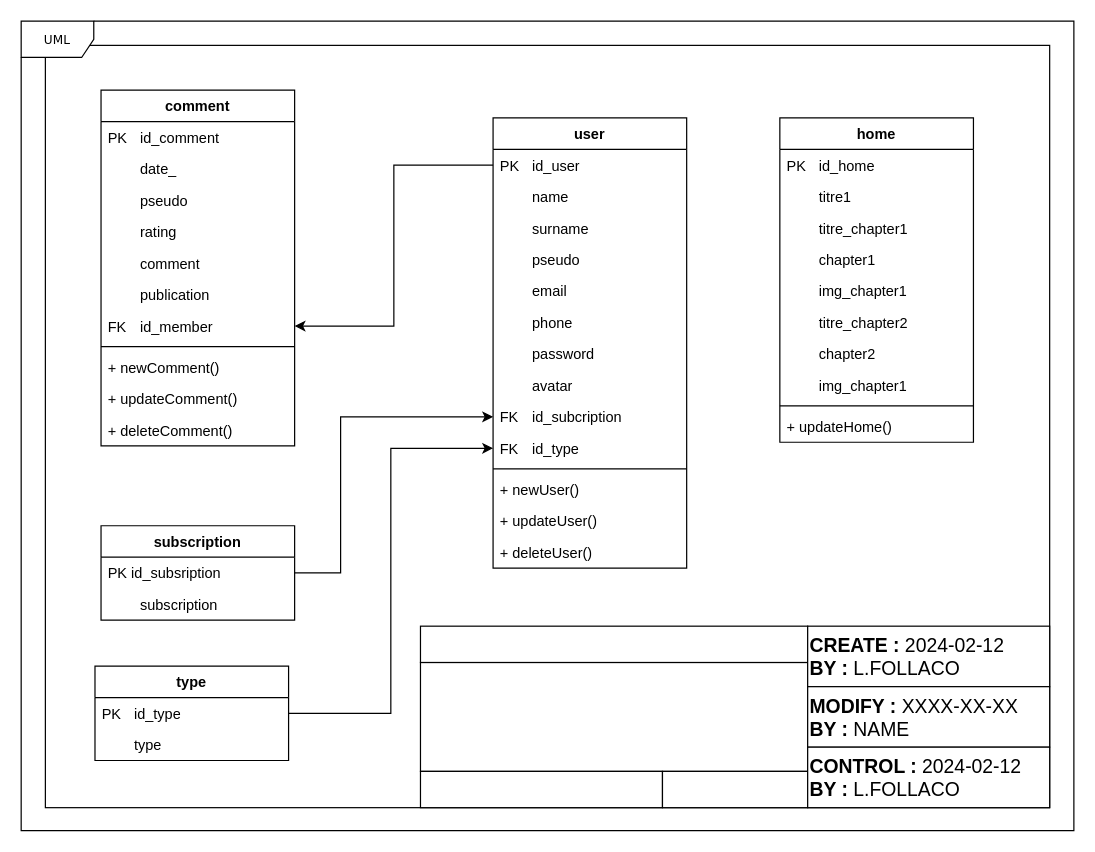
The diagram is 1095 pixels wide and 852 high, and some of its shapes have lost their labels. Each missing label, with the box of its shape:
DESIGNATION: (419, 625, 808, 662)
Diagramme modèle logique de données Projet Club GOLDORAK: (419, 661, 808, 771)
Ref. : 2404DG002: (419, 770, 662, 808)
Rev. : 01: (661, 770, 808, 808)
